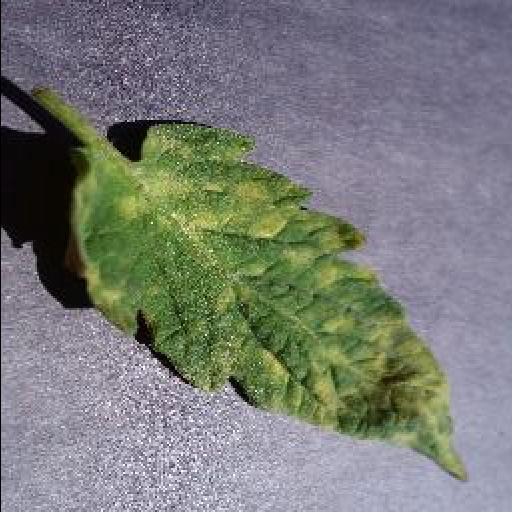disease_tomato: (64, 124, 466, 480)
